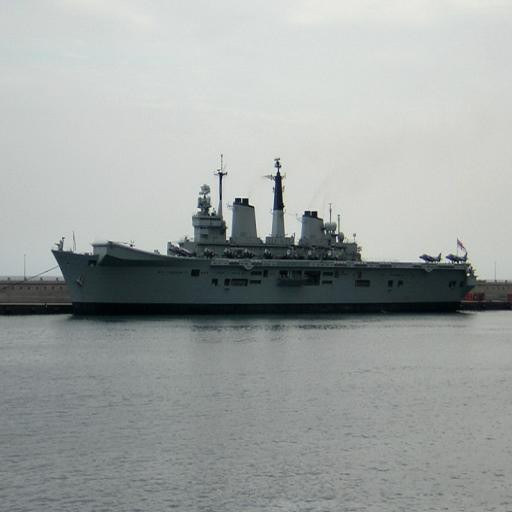Portanaves: (48, 147, 481, 325)
